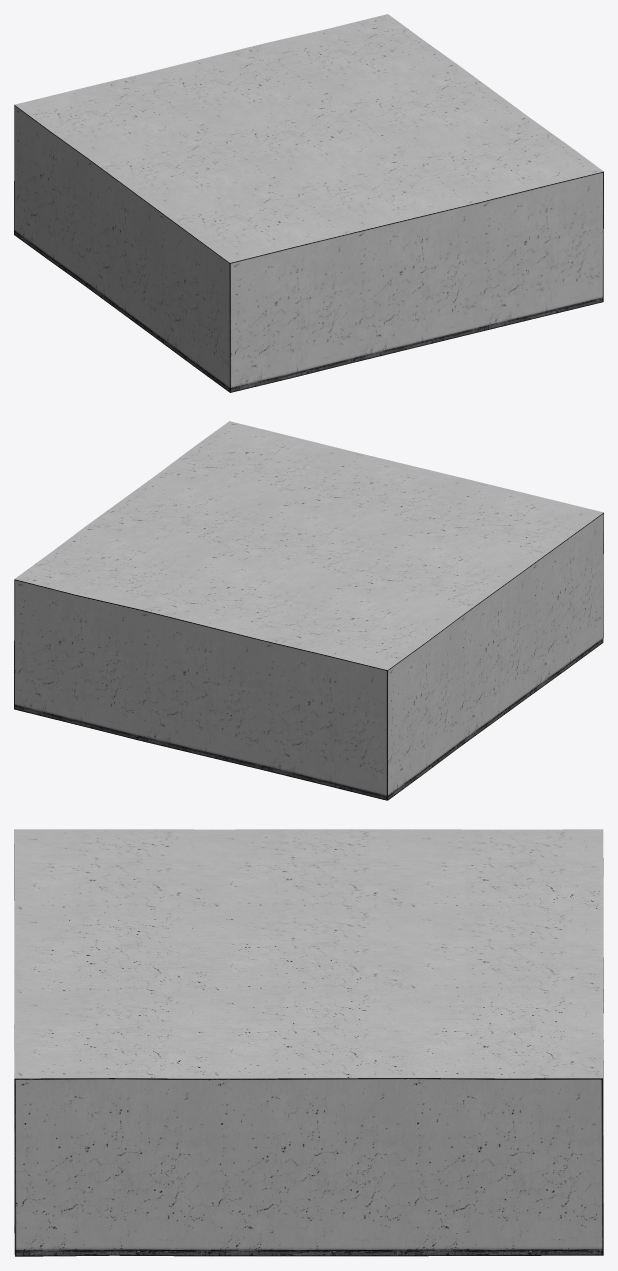
The model's file is Test_Room.obj.
The picture shows the model from 3 angles, top to bottom: view 1: azimuth 30°, elevation 25°; view 2: azimuth 150°, elevation 25°; view 3: azimuth 270°, elevation 25°; orthographic projection. The views are drawn at different scales.
Visible parts, largest first — view 1: Test_Room_Plane; view 2: Test_Room_Plane; view 3: Test_Room_Plane.
Part boxes in pixels (x1,y1,x2,y2): Test_Room_Plane: [14, 14, 603, 392]; Test_Room_Plane: [14, 421, 603, 800]; Test_Room_Plane: [14, 829, 603, 1256].
Bounding box in the file's own units: 6.01 × 2.05 × 6.01.
